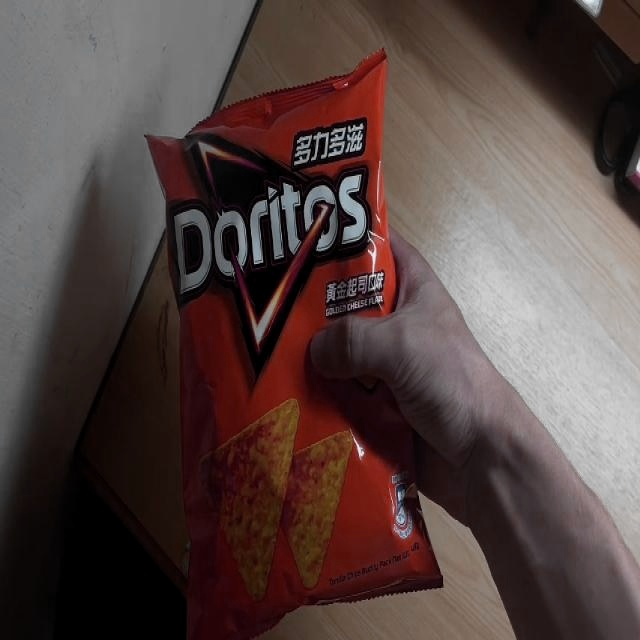Doritos: (145, 47, 443, 640)
